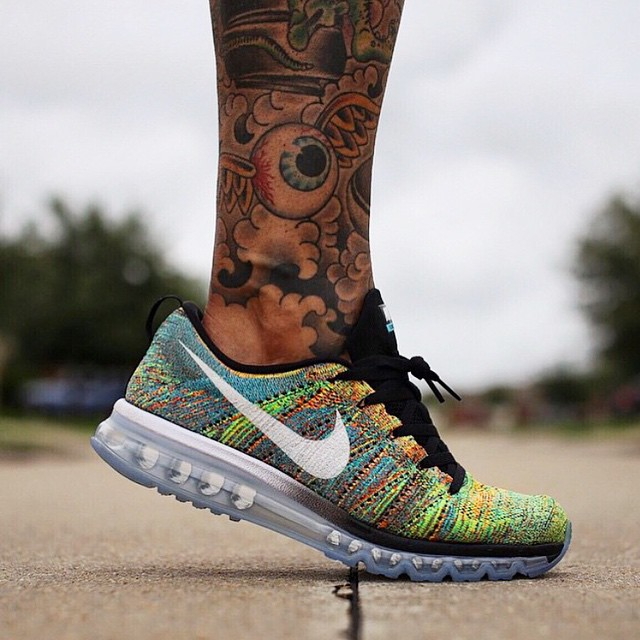sneaker: (74, 266, 604, 608)
